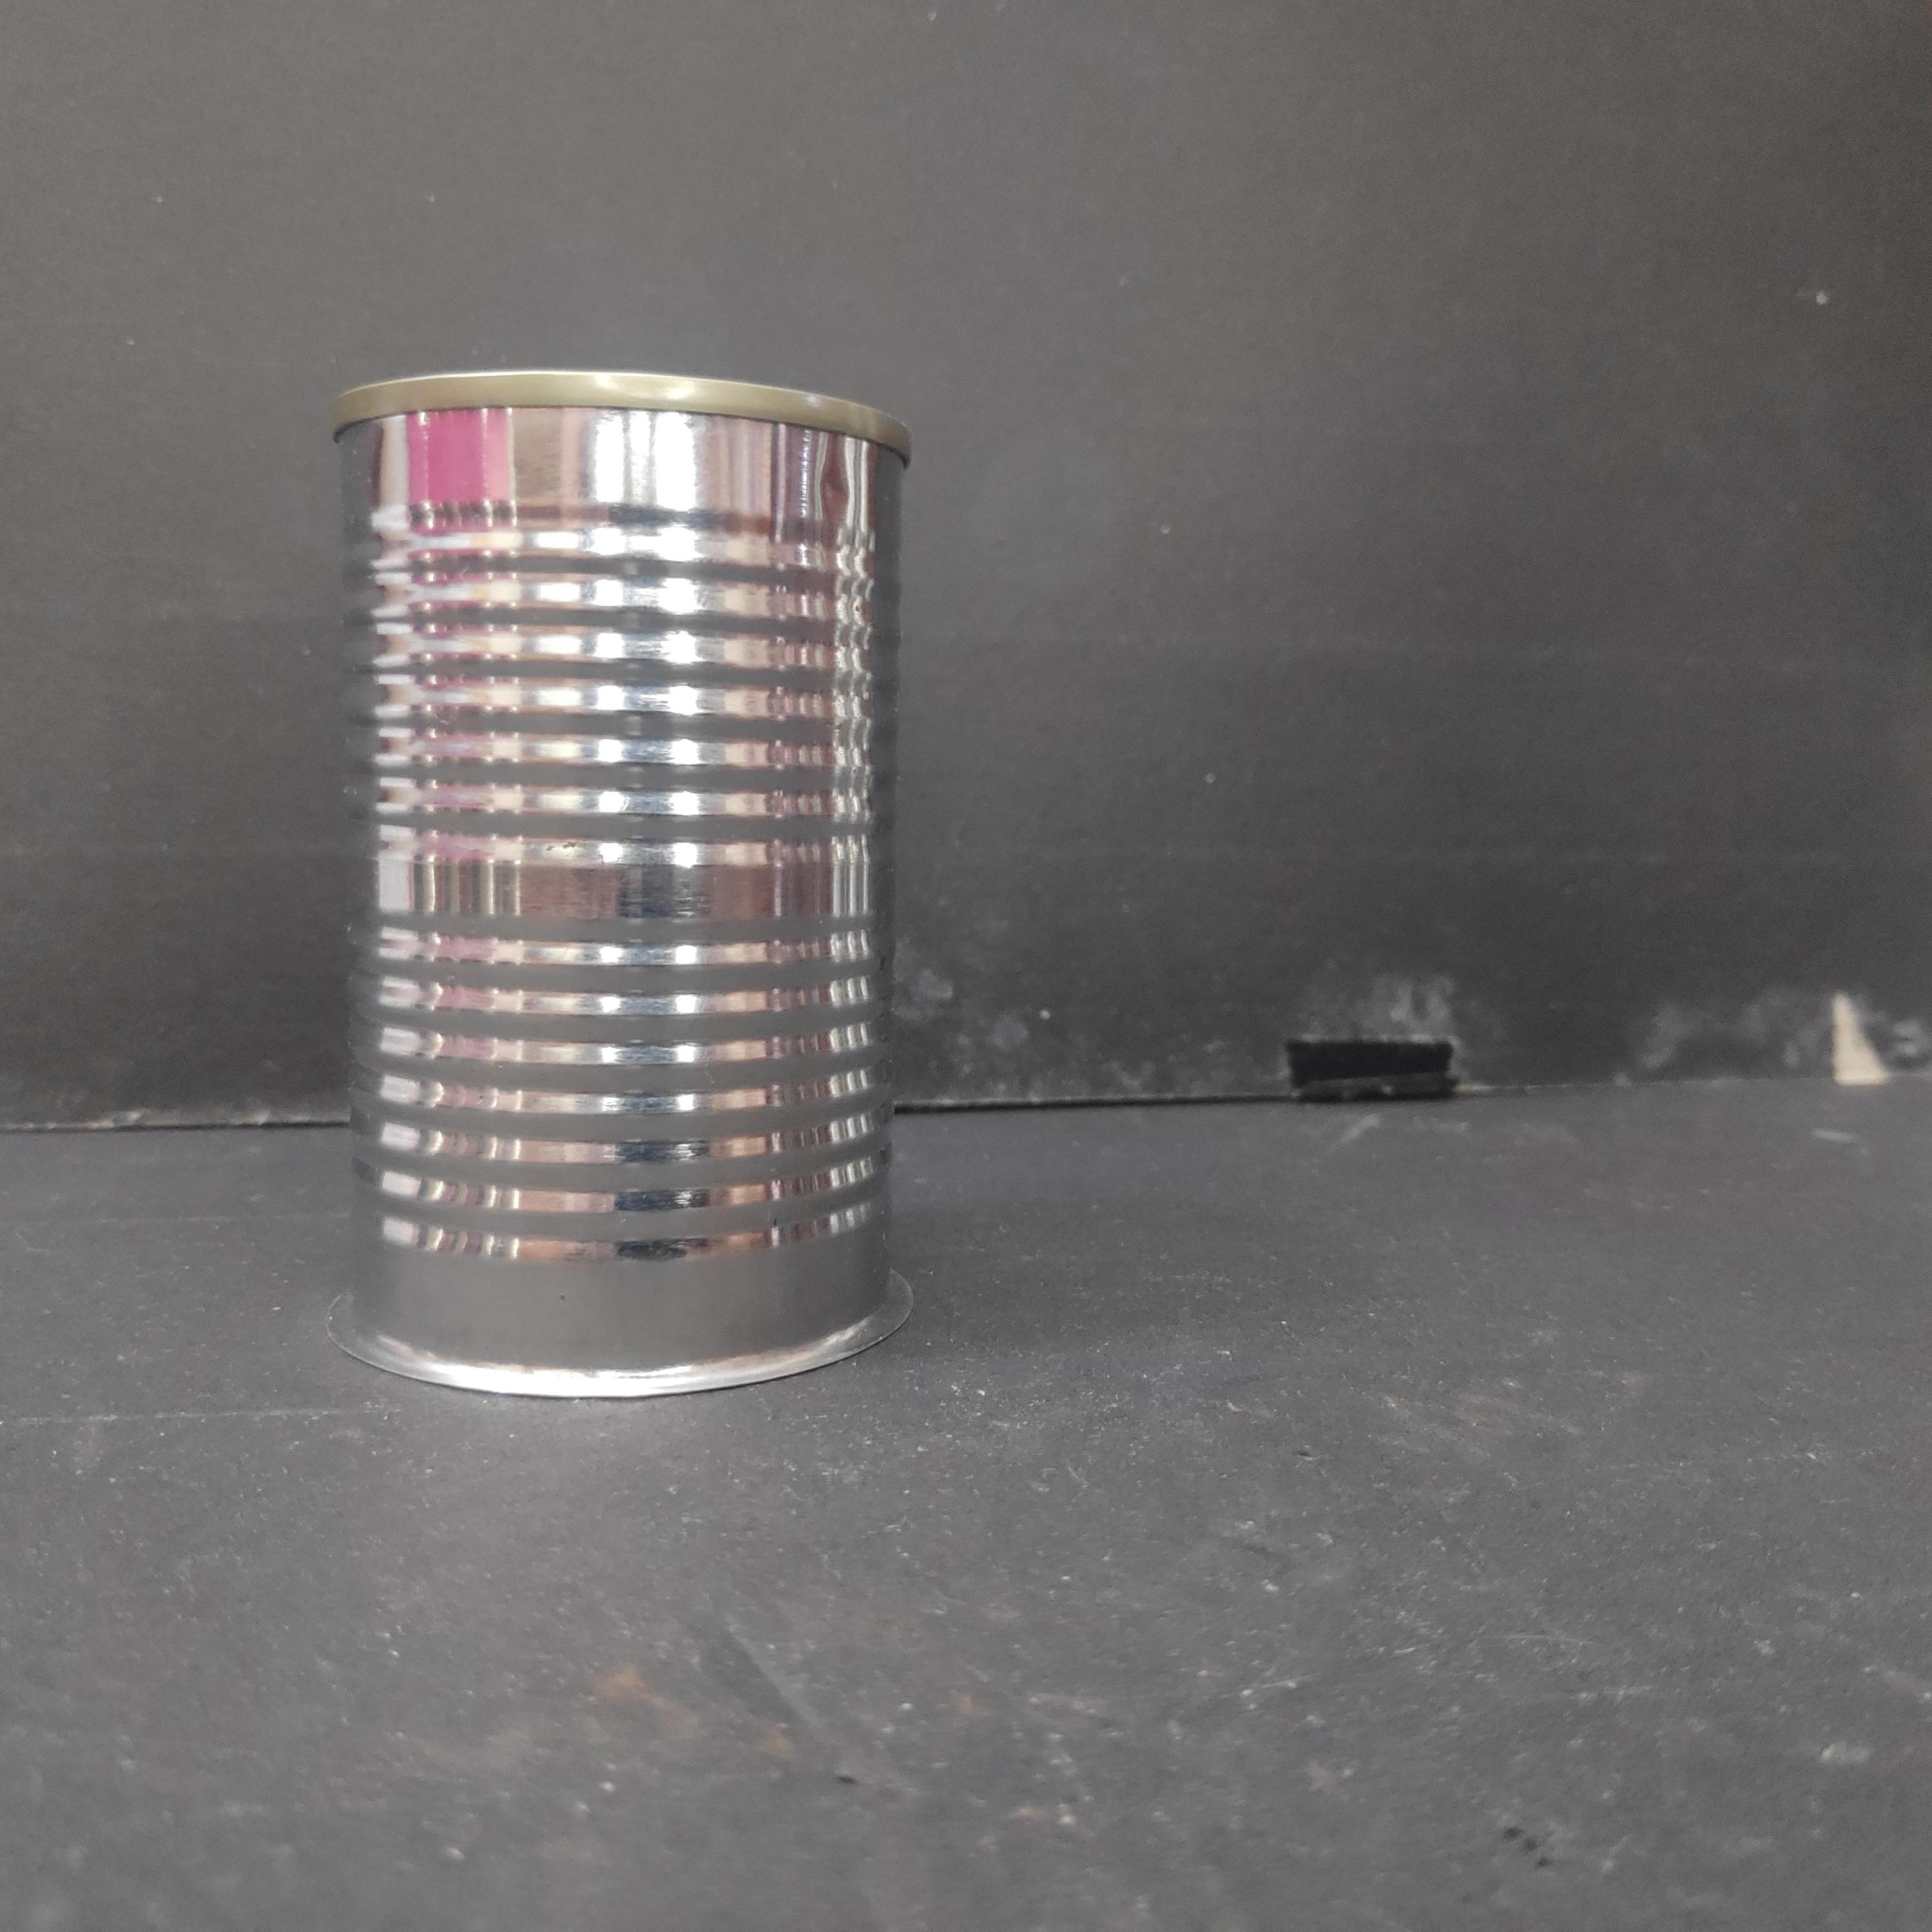No defect: (318, 362, 918, 1400)
